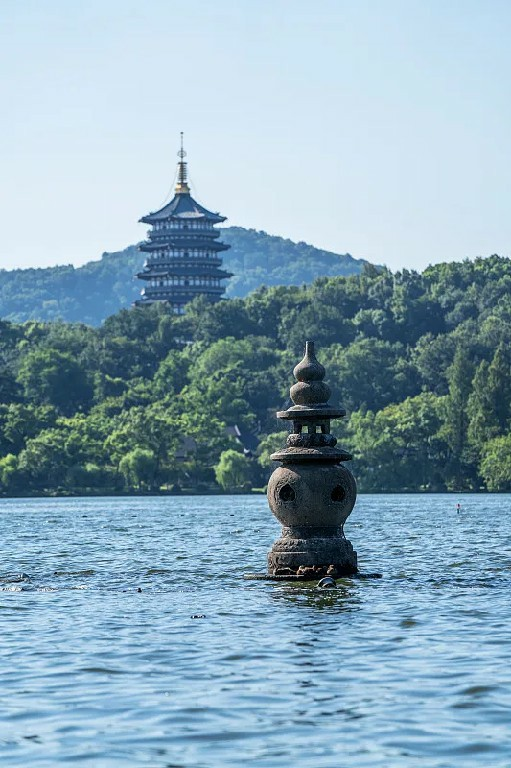Leifeng: (132, 124, 233, 311)
